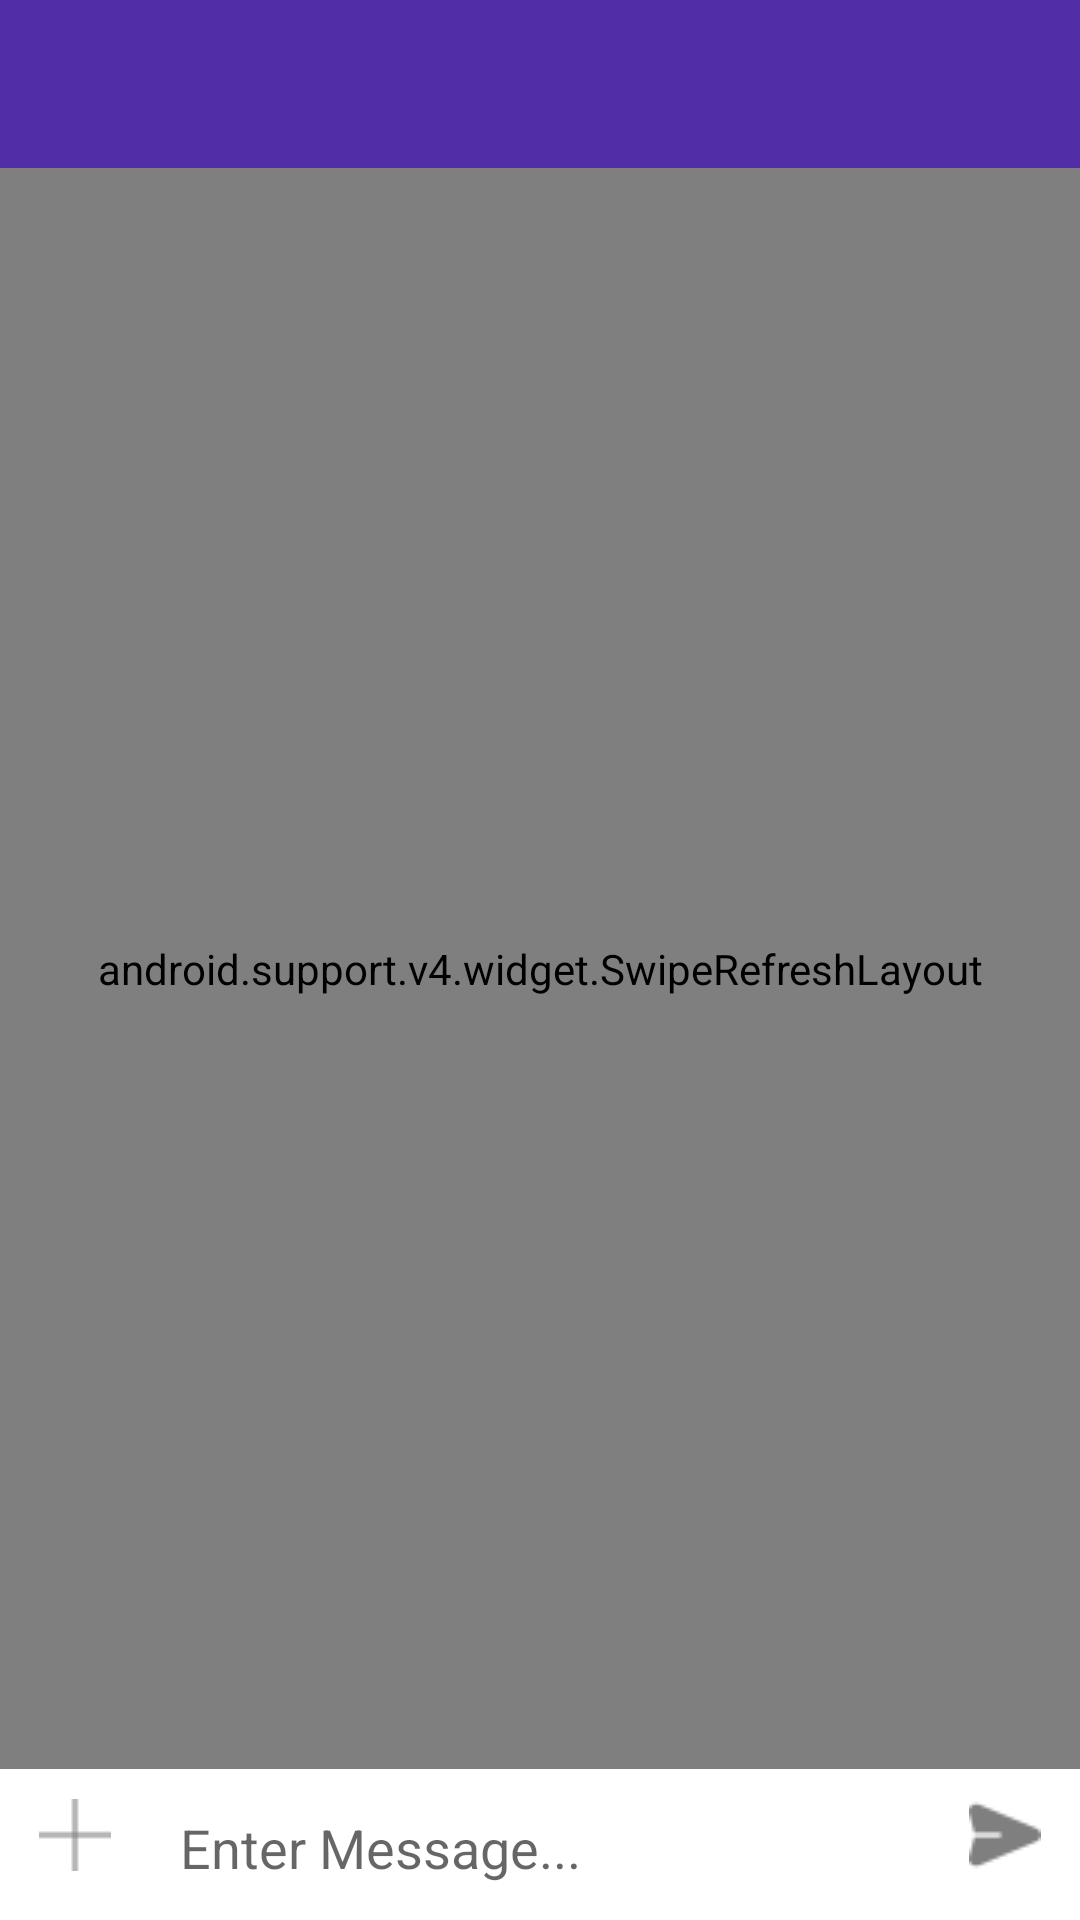

Screen size 1080 x 1920. Icon name, then its box in pixels as {"x1": x1, "y1": y1, "x2": x2, "y2": y2}:
plussign: {"x1": 39, "y1": 1799, "x2": 111, "y2": 1871}
send: {"x1": 969, "y1": 1803, "x2": 1041, "y2": 1867}
